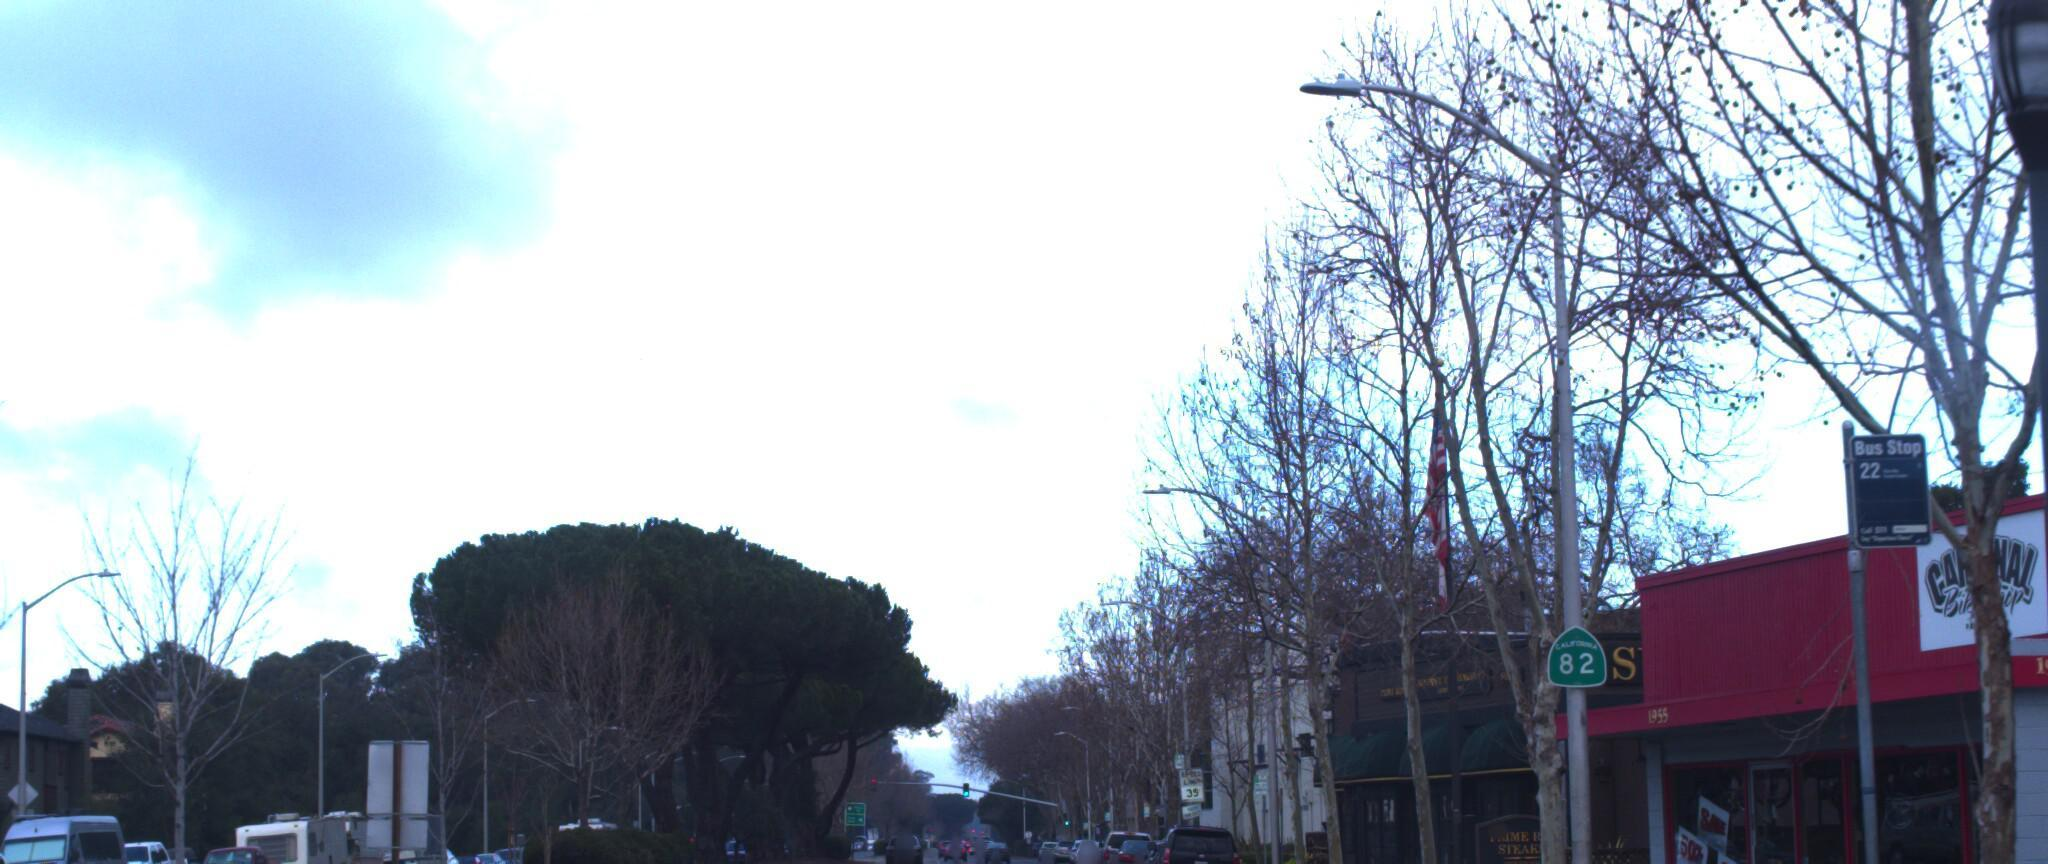car: (0, 794, 144, 864), (1142, 818, 1240, 864), (0, 841, 47, 864)
